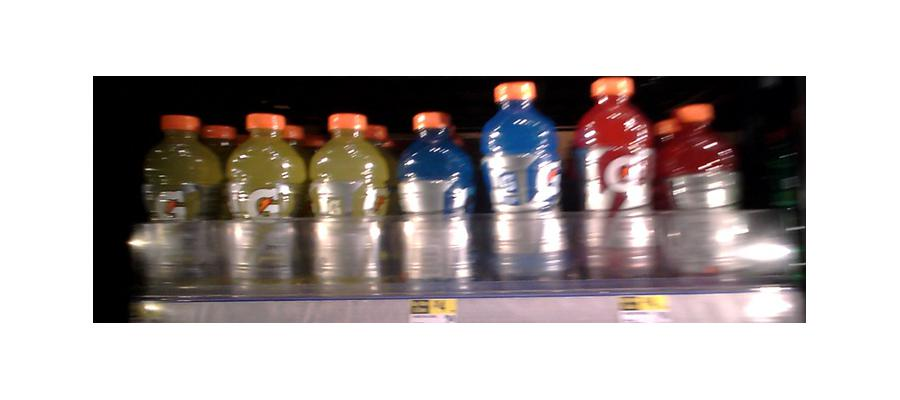bottle: (479, 80, 568, 291), (573, 76, 658, 287), (390, 109, 476, 299), (139, 111, 220, 294), (307, 112, 385, 293), (661, 103, 740, 281), (222, 109, 298, 292)
